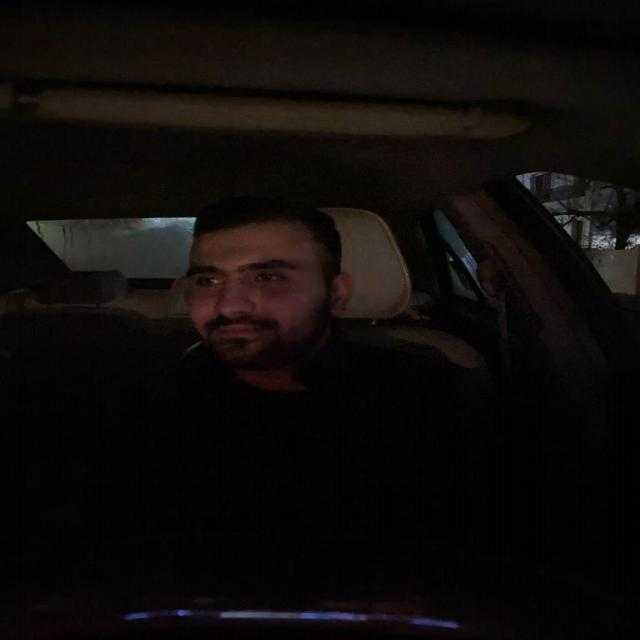person: (165, 206, 349, 366)
